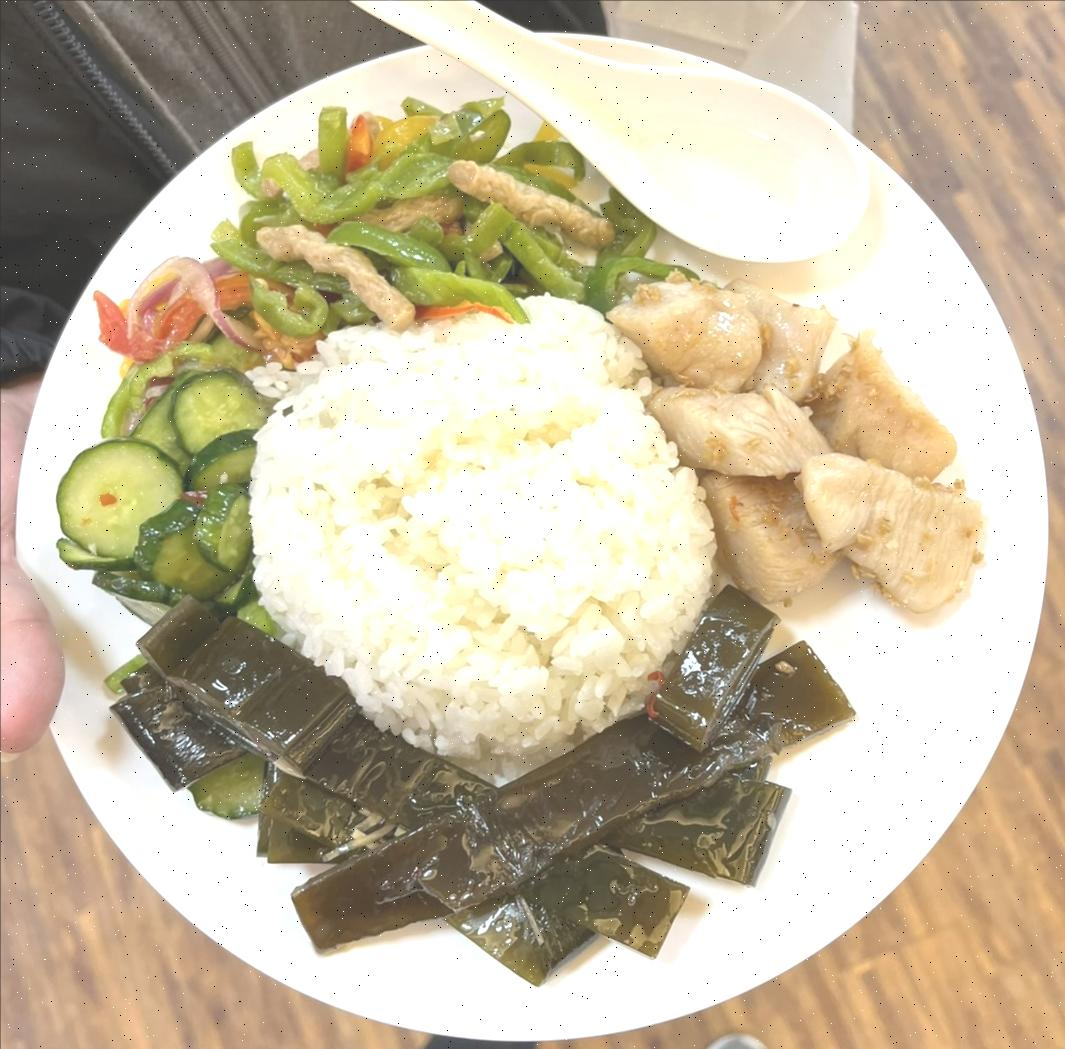big fried chicken leg: (0, 33, 1052, 1049)
big herbal chicken leg: (260, 303, 708, 773)
braised fish fillet: (107, 618, 847, 979), (88, 98, 662, 356), (54, 360, 255, 603)
braised pork: (608, 268, 986, 615)
